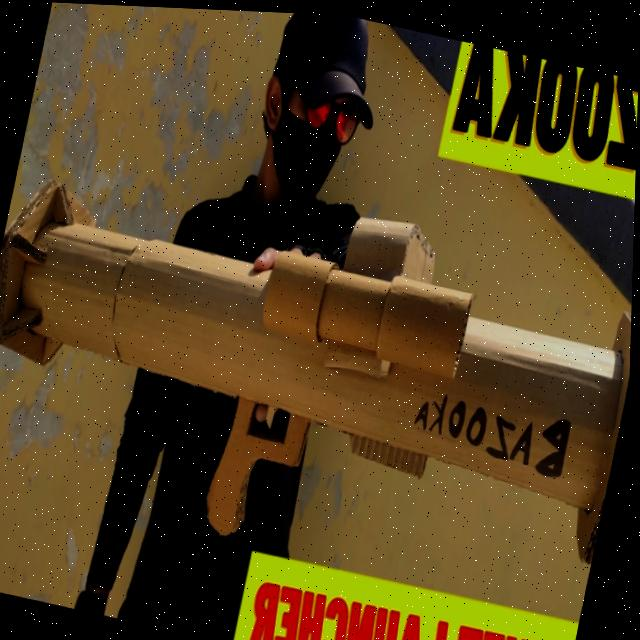rocket: (0, 135, 637, 612)
